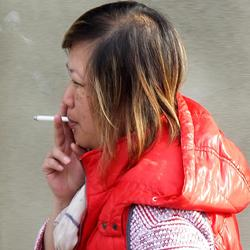smoking: (32, 115, 80, 129)
